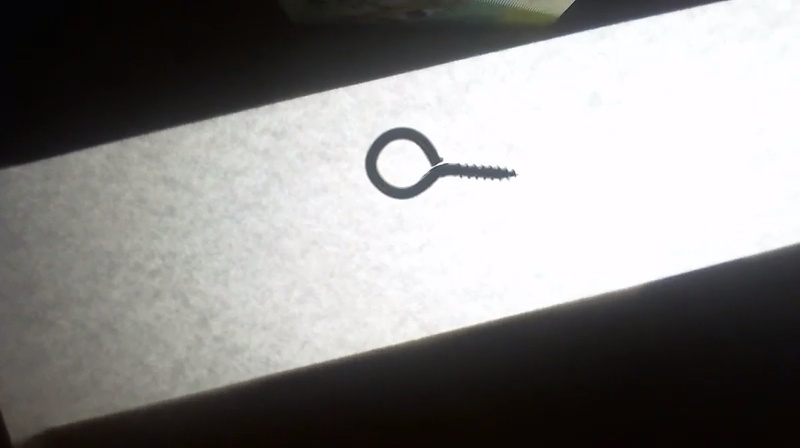O001: (360, 125, 522, 201)
